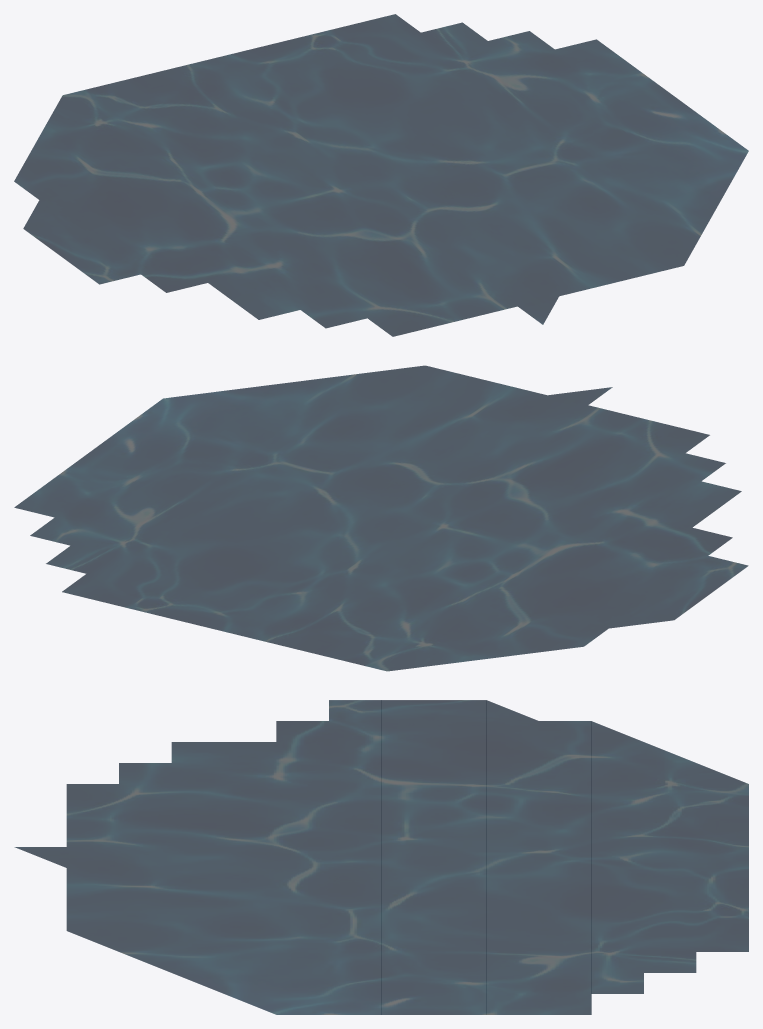
File: pool_water_surface.gltf
3 renders of one model, top to bottom at view 1: azimuth 30°, elevation 25°; view 2: azimuth 150°, elevation 25°; view 3: azimuth 270°, elevation 25°, orthographic. The views are drawn at different scales.
Visible parts, largest first — view 1: Plane.002; view 2: Plane.002; view 3: Plane.002.
Boxes of the visible parts, bbox=[...] form: Plane.002: bbox=[14, 14, 748, 336]; Plane.002: bbox=[14, 365, 748, 671]; Plane.002: bbox=[14, 700, 748, 1014].
Size of the model in its own units: 13.88 by 0 by 13.69.
Materials: 1 (1 with a texture image).
